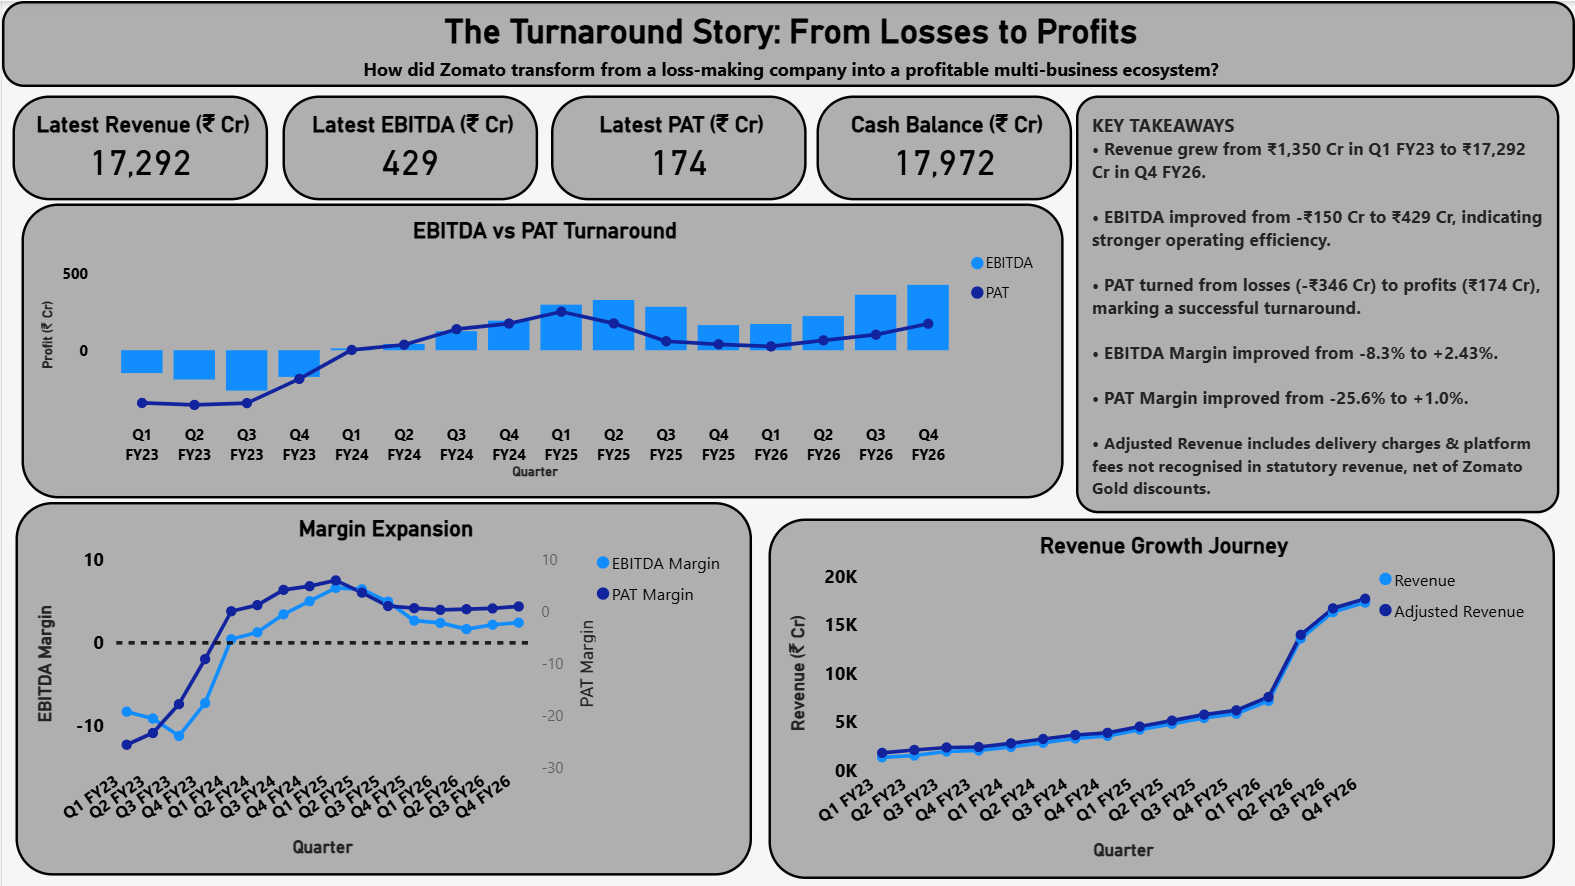

Layout of this report page (visuals, bound fields, positions):
{"tool":"powerbi","page":{"name":"Turnaround Story","canvas":[1280,720],"ordinal":0},"visuals":[{"type":"textbox","title":"The Turnaround Story: From Losses to Profits","box":[0,0,1280,70],"z":0},{"type":"card","title":"Latest Revenue (₹ Cr)","fields":{"Values":["public zomato_dashboard_view.Latest Revenue"]},"box":[9,77,208,85],"z":1000},{"type":"card","title":"Latest EBITDA (₹ Cr)","fields":{"Values":["public zomato_dashboard_view.Latest EBITDA"]},"box":[228,77,208,85],"z":2000},{"type":"card","title":"Latest PAT (₹ Cr)","fields":{"Values":["public zomato_dashboard_view.Latest PAT"]},"box":[447,77,208,85],"z":3000},{"type":"card","title":"Cash Balance (₹ Cr)","fields":{"Values":["public zomato_dashboard_view.Latest Cash Balance"]},"box":[663,77,208,85],"z":4000},{"type":"lineChart","title":"Revenue Growth Journey","fields":{"Category":["public zomato_dashboard_view.quarter"],"Y":["Sum(public zomato_dashboard_view.revenue)","Sum(public zomato_dashboard_view.adjusted_revenue)"]},"box":[624,421,640,293],"z":5000},{"type":"lineClusteredColumnComboChart","title":"EBITDA vs PAT Turnaround","fields":{"Y":["Sum(public zomato_dashboard_view.ebitda)"],"Category":["public zomato_dashboard_view.quarter"],"Y2":["Sum(public zomato_dashboard_view.pat)"]},"box":[16,165,848,240],"z":6000},{"type":"lineChart","title":"Margin Expansion","fields":{"Y2":["Sum(public zomato_dashboard_view.pat_margin)"],"Y":["Sum(public zomato_dashboard_view.ebitda_margin)"],"Category":["public zomato_dashboard_view.quarter"]},"box":[11,408,599,304],"z":7000},{"type":"textbox","box":[874,77,393,340],"z":8000}]}

Visuals, with their boxes in screenshot pixels (x1, y1, x2, y2), scaled from the page's 1280x720 canvas onto the 1575x886 screenshot:
"The Turnaround Story: From Losses to Profits" textbox: {"left": 0, "top": 0, "right": 1574, "bottom": 86}
"Latest Revenue (₹ Cr)" card: {"left": 11, "top": 95, "right": 267, "bottom": 199}
"Latest EBITDA (₹ Cr)" card: {"left": 281, "top": 95, "right": 536, "bottom": 199}
"Latest PAT (₹ Cr)" card: {"left": 550, "top": 95, "right": 806, "bottom": 199}
"Cash Balance (₹ Cr)" card: {"left": 816, "top": 95, "right": 1072, "bottom": 199}
"Revenue Growth Journey" lineChart: {"left": 768, "top": 518, "right": 1555, "bottom": 879}
"EBITDA vs PAT Turnaround" lineClusteredColumnComboChart: {"left": 20, "top": 203, "right": 1063, "bottom": 498}
"Margin Expansion" lineChart: {"left": 14, "top": 502, "right": 751, "bottom": 876}
textbox: {"left": 1075, "top": 95, "right": 1559, "bottom": 513}
